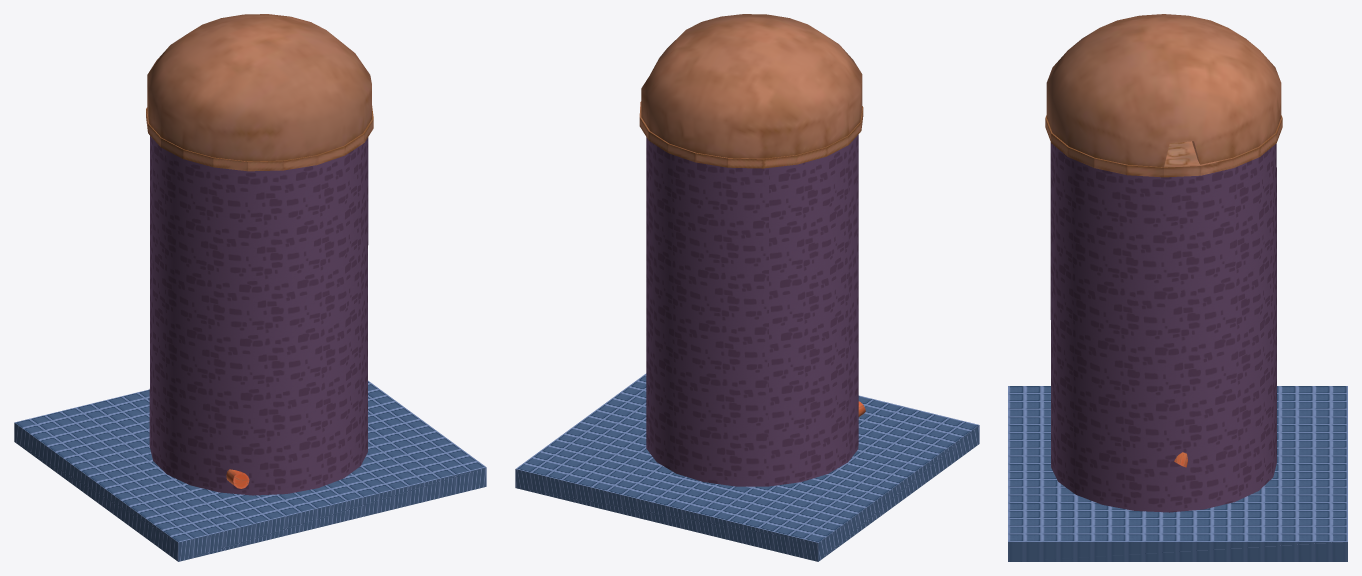
3 views of the same model, side by side, from view 1: azimuth 30°, elevation 25°; view 2: azimuth 150°, elevation 25°; view 3: azimuth 270°, elevation 25° (orthographic). The views are drawn at different scales.
Visible parts, largest first — view 1: Tunnel3_Pref, Cube, Toit, Sol; view 2: Tunnel3_Pref, Cube, Toit, Sol; view 3: Tunnel3_Pref, Cube, Toit, Sol.
Part boxes in pixels (left/top/right/bottom): Tunnel3_Pref: left=149, top=136, right=368, bottom=495; Cube: left=14, top=380, right=486, bottom=561; Toit: left=147, top=14, right=371, bottom=161; Sol: left=146, top=106, right=373, bottom=171; Tunnel3_Pref: left=646, top=134, right=858, bottom=486; Cube: left=515, top=373, right=979, bottom=561; Toit: left=641, top=14, right=862, bottom=158; Sol: left=639, top=101, right=863, bottom=168; Tunnel3_Pref: left=1050, top=142, right=1276, bottom=512; Cube: left=1008, top=386, right=1347, bottom=561; Toit: left=1046, top=14, right=1281, bottom=167; Sol: left=1045, top=115, right=1282, bottom=177.
Size of the model in its own units: 0.2998 by 0.4068 by 0.2763.
